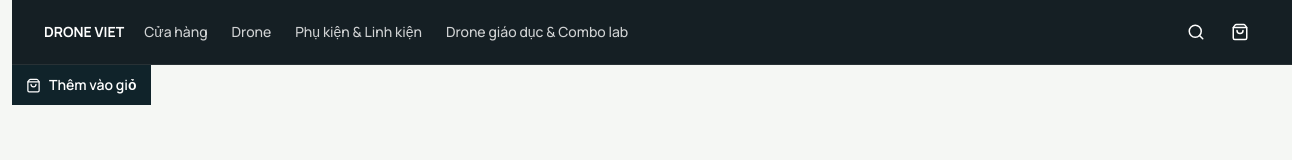
Test case: AddToCartButton › confirms the add action and updates the visible cart count
What coordinates should you click on to do the following:
click the button "Thêm vào giỏ"
I would click on:
 (81, 85)
Its box is [12,65,150,105].
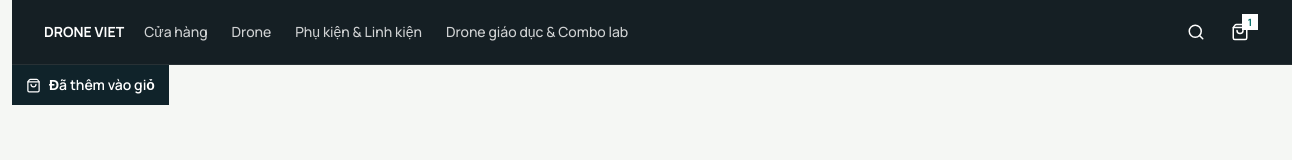
Result: the button "Đã thêm vào giỏ" is shown at [12,65,169,105]
Result: the text "1" is shown at [1242,14,1258,30]
